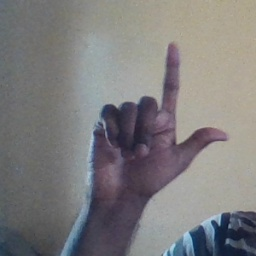L: (82, 40, 233, 196)
